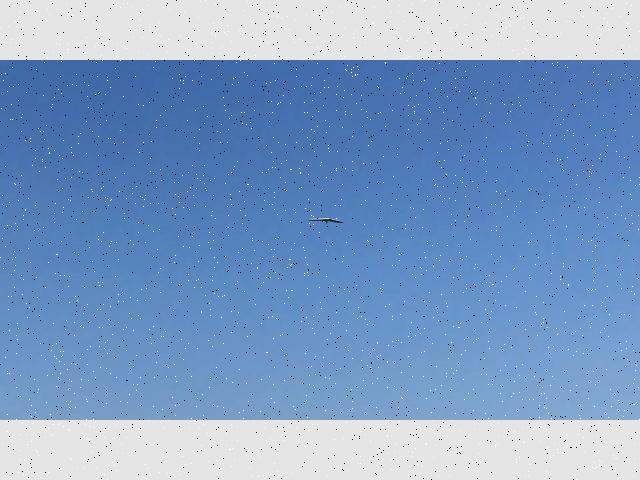Anti-Drone: (298, 202, 360, 236)
